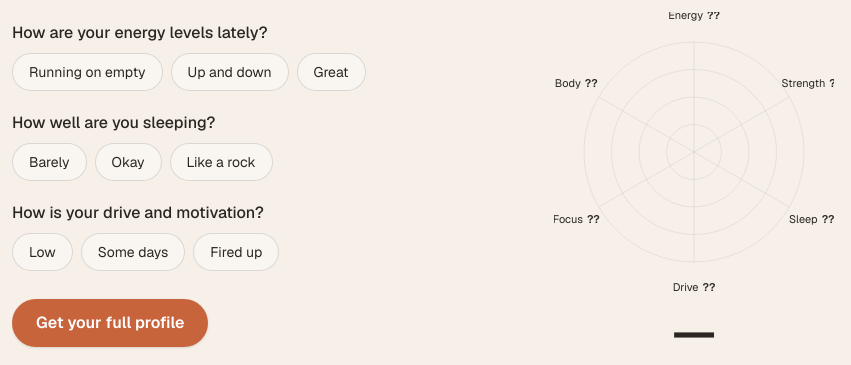
RadarTeaser › reveals the email-capture form via the CTA
The width and height of the screenshot is (851, 365).
Click the button "Get your full profile": (110, 323) [12, 299, 208, 347]
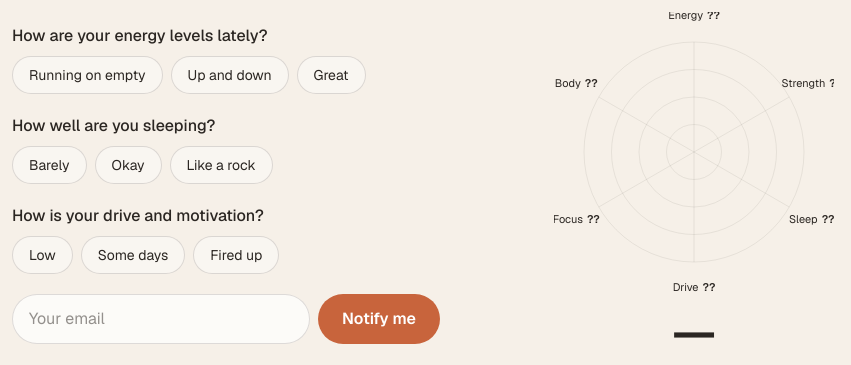
Expected: the field with placeholder "Your email" is shown, [12, 294, 310, 344]
